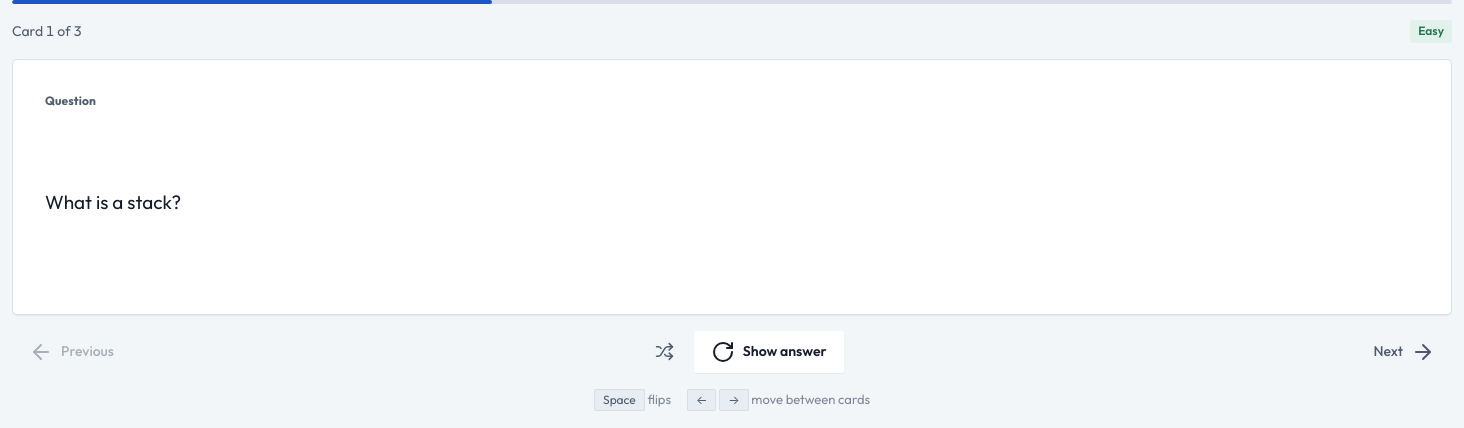
Scenario: FlashcardDeck › moves between cards with the arrow keys and turns the next one face down
The width and height of the screenshot is (1464, 428).
Click the button with aria-label "Show the answer" at (732, 187), box left=12, top=59, right=1452, bottom=315
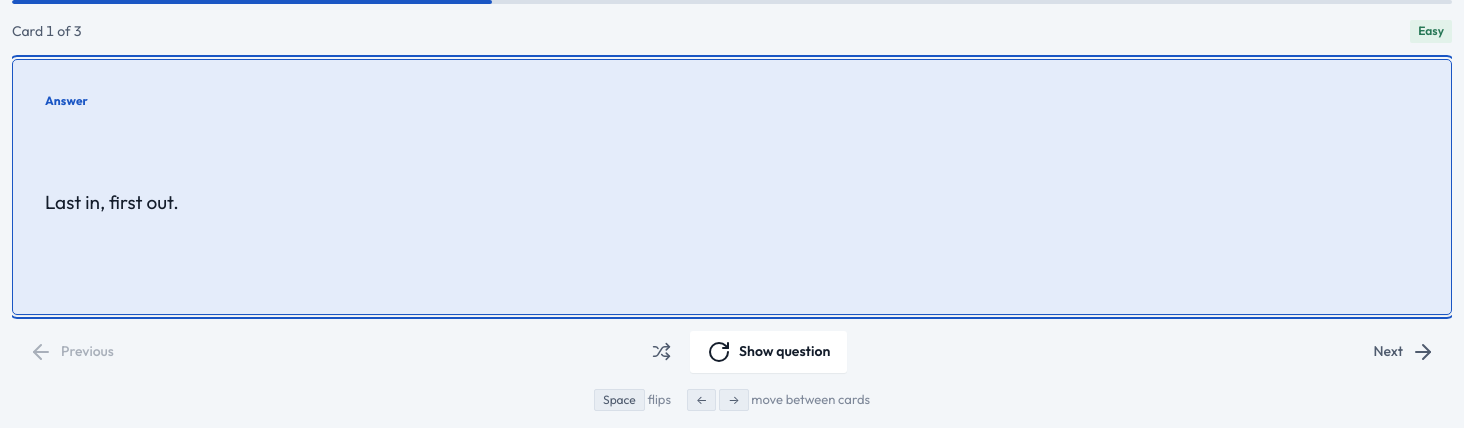
Expected: the button with aria-label "Show the question" is shown, left=12, top=59, right=1452, bottom=315
Press Arrowright
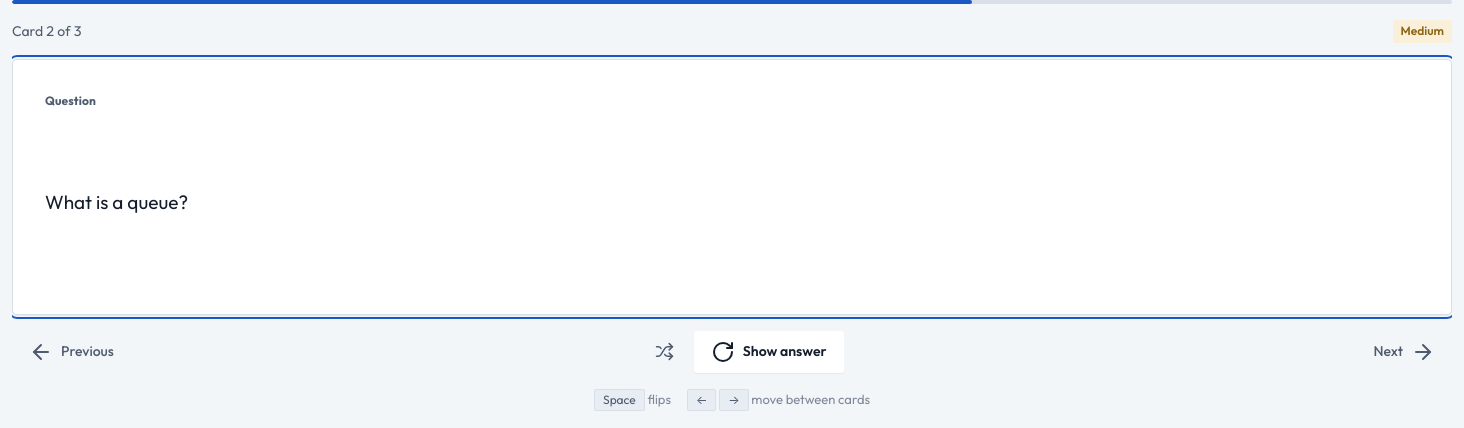
Expected: the text "What is a queue?" is shown, left=45, top=190, right=188, bottom=214
Expected: the button with aria-label "Show the answer" is shown, left=12, top=59, right=1452, bottom=315
